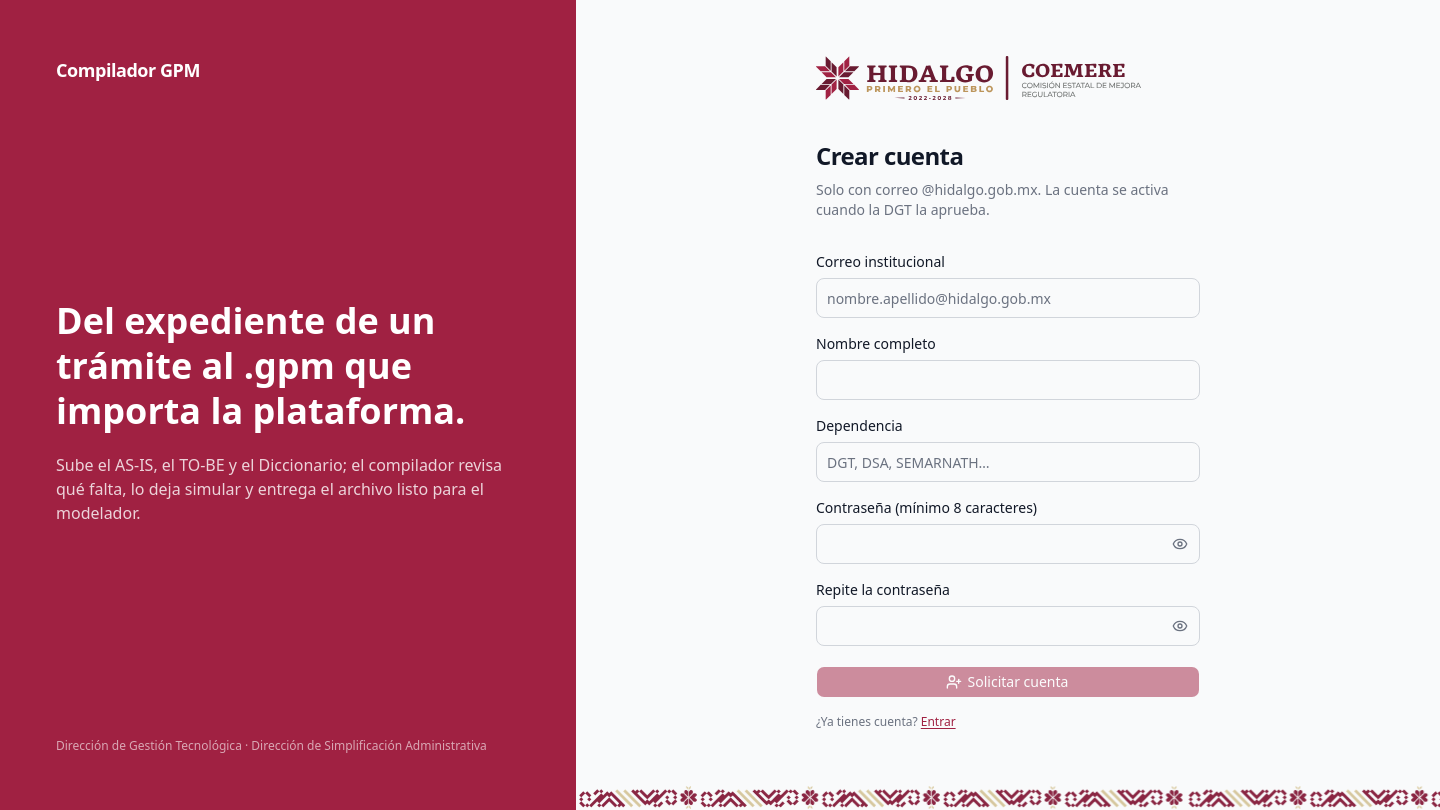
Test case: registra y explica que la cuenta queda pendiente de la DGT
The image size is (1440, 810).
In the field labelled "Correo institucional": (1008, 298) x1=816 y1=278 x2=1200 y2=318, type "Luis.Vera@hidalgo.gob.mx"
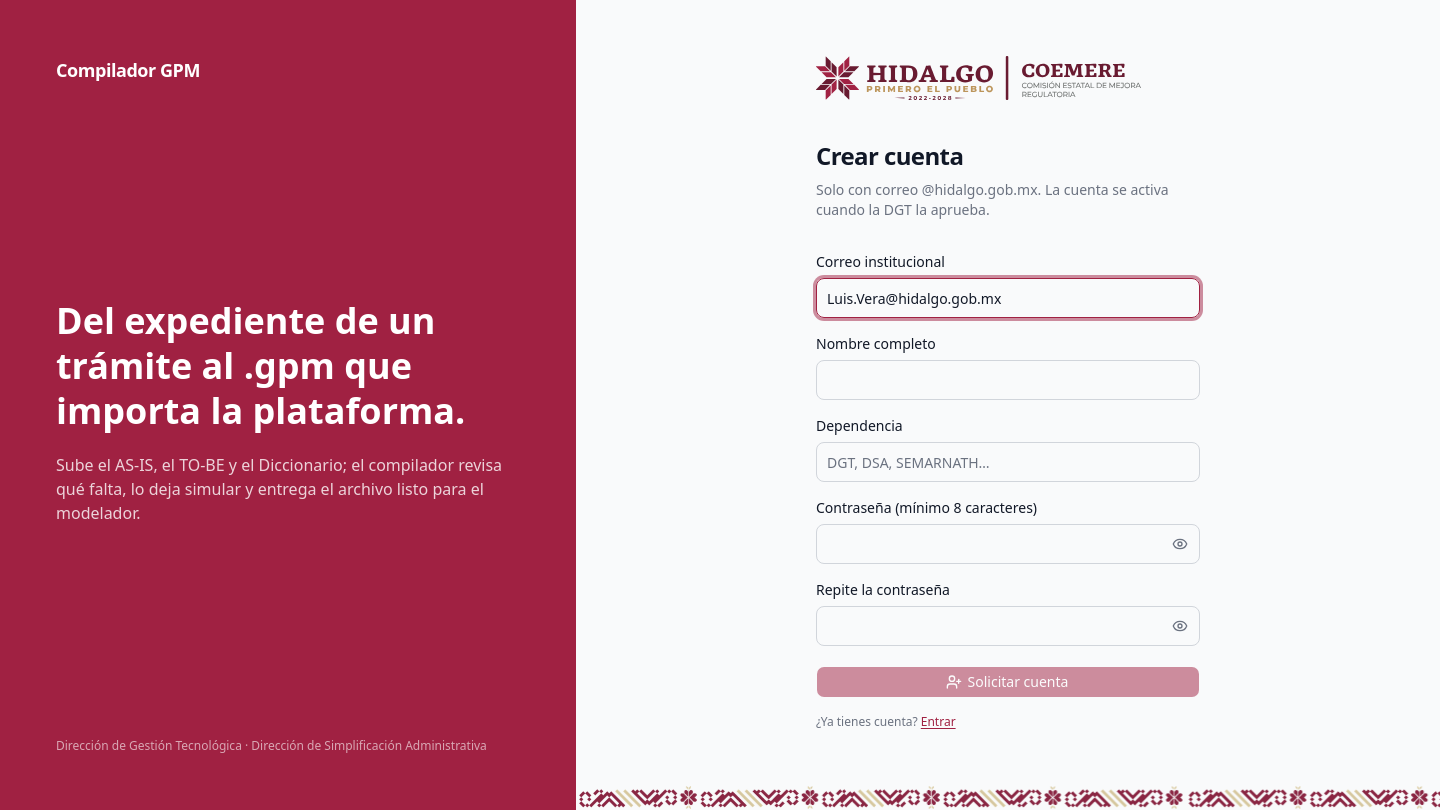
In the field labelled "Nombre completo": (1008, 380) x1=816 y1=360 x2=1200 y2=400, type "Luis Vera"
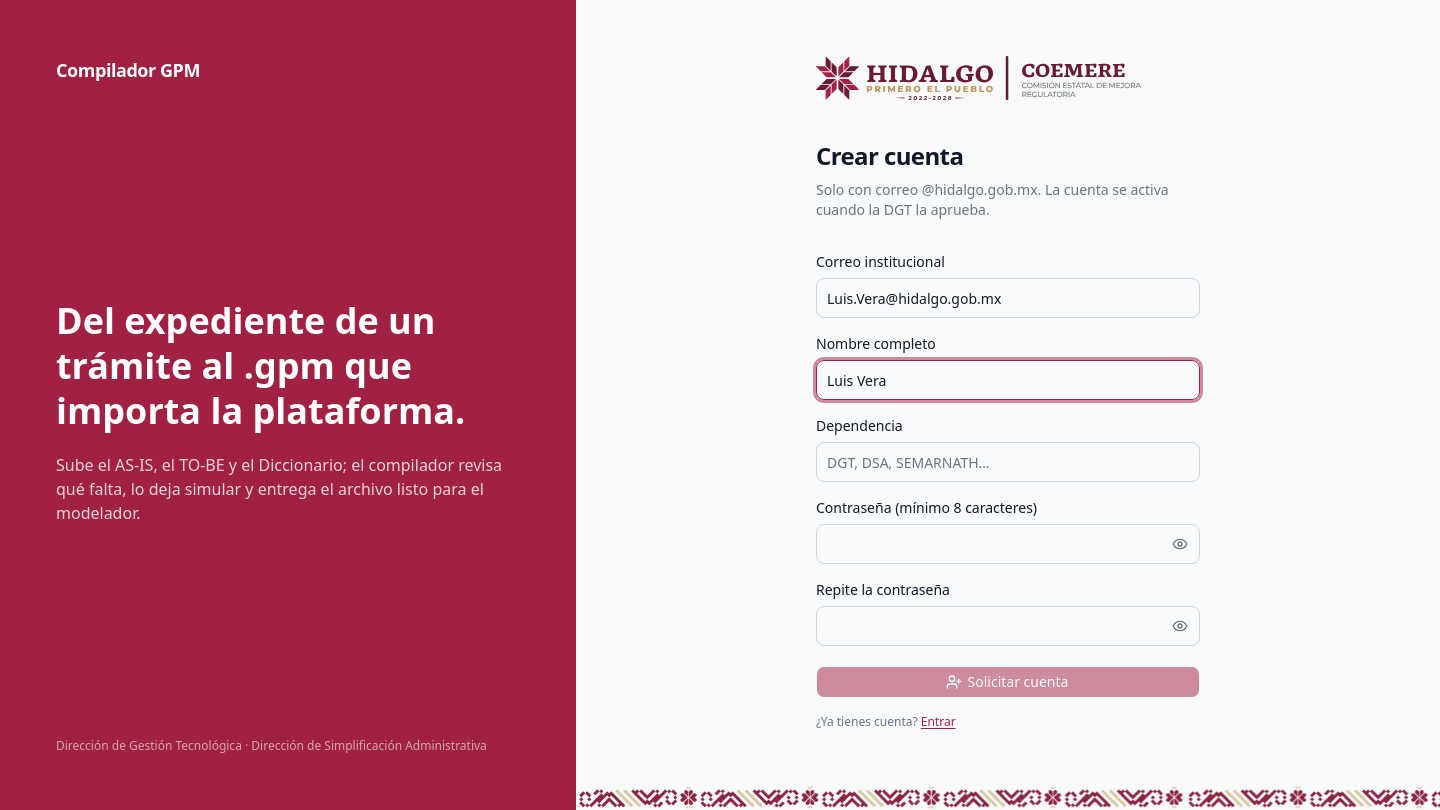
In the field labelled "Dependencia": (1008, 462) x1=816 y1=442 x2=1200 y2=482, type "DSA"
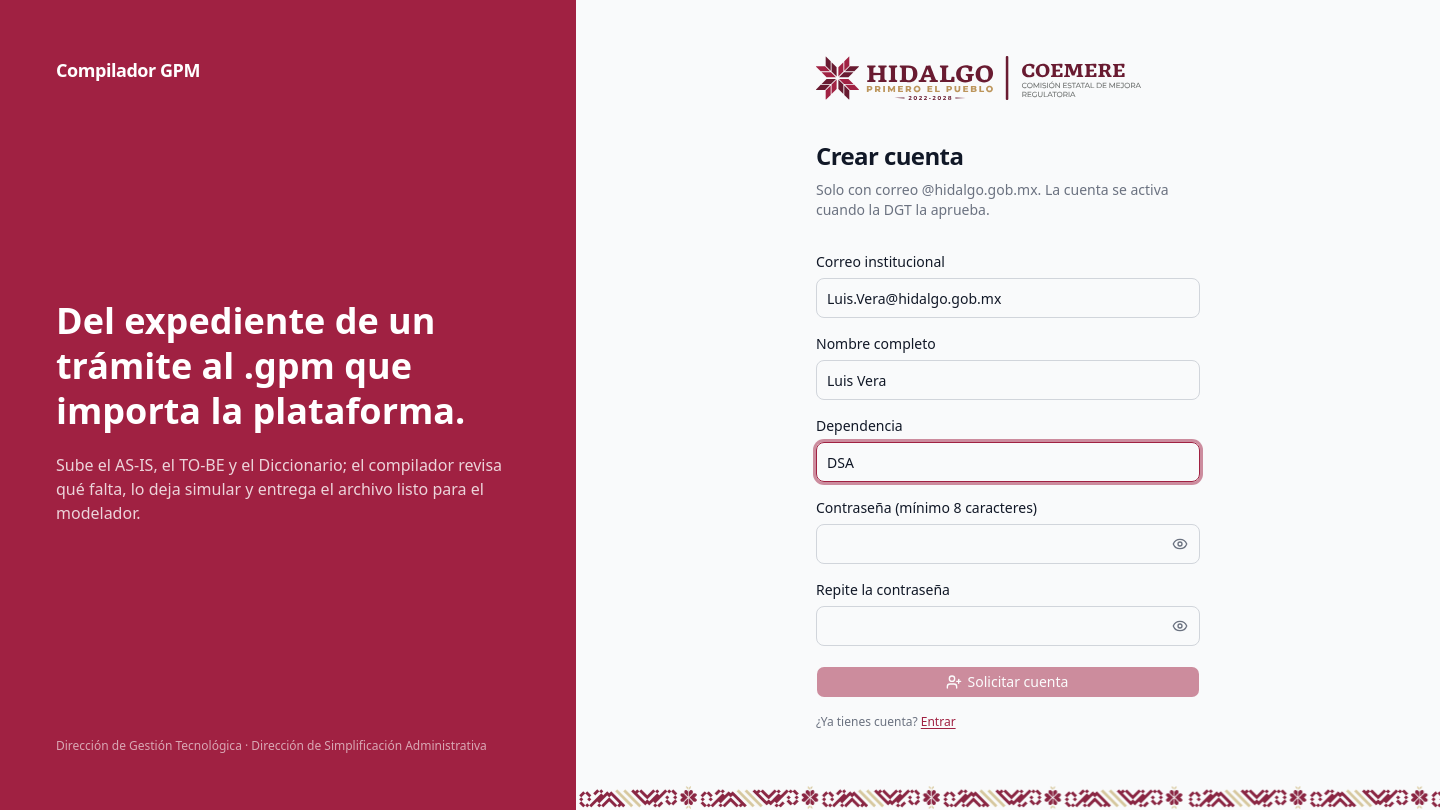
In the password field labelled "Contraseña (mínimo 8 caracteres)": (1008, 544) x1=816 y1=524 x2=1200 y2=564, type "Secreta-123"
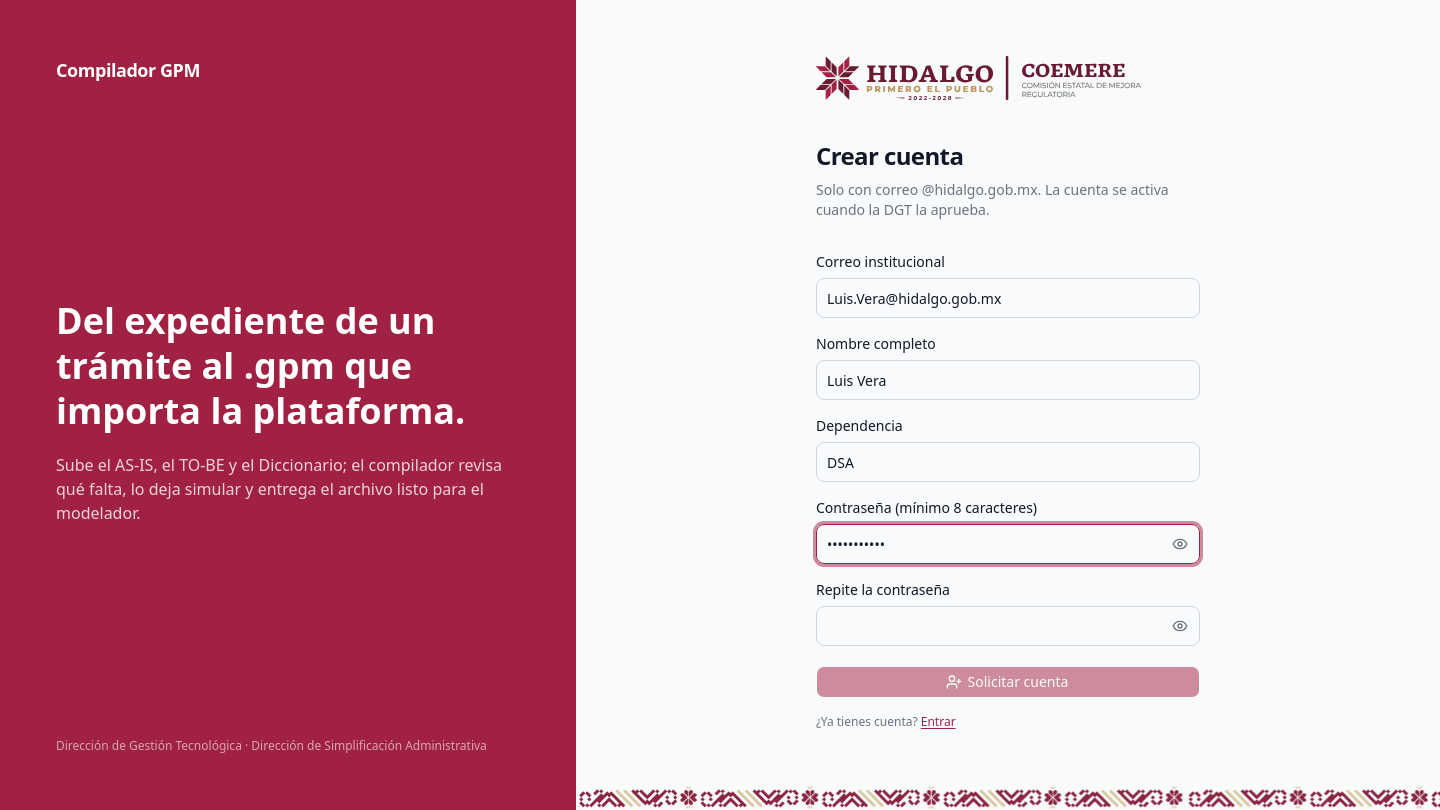
In the password field labelled "Repite la contraseña": (1008, 626) x1=816 y1=606 x2=1200 y2=646, type "Secreta-123"
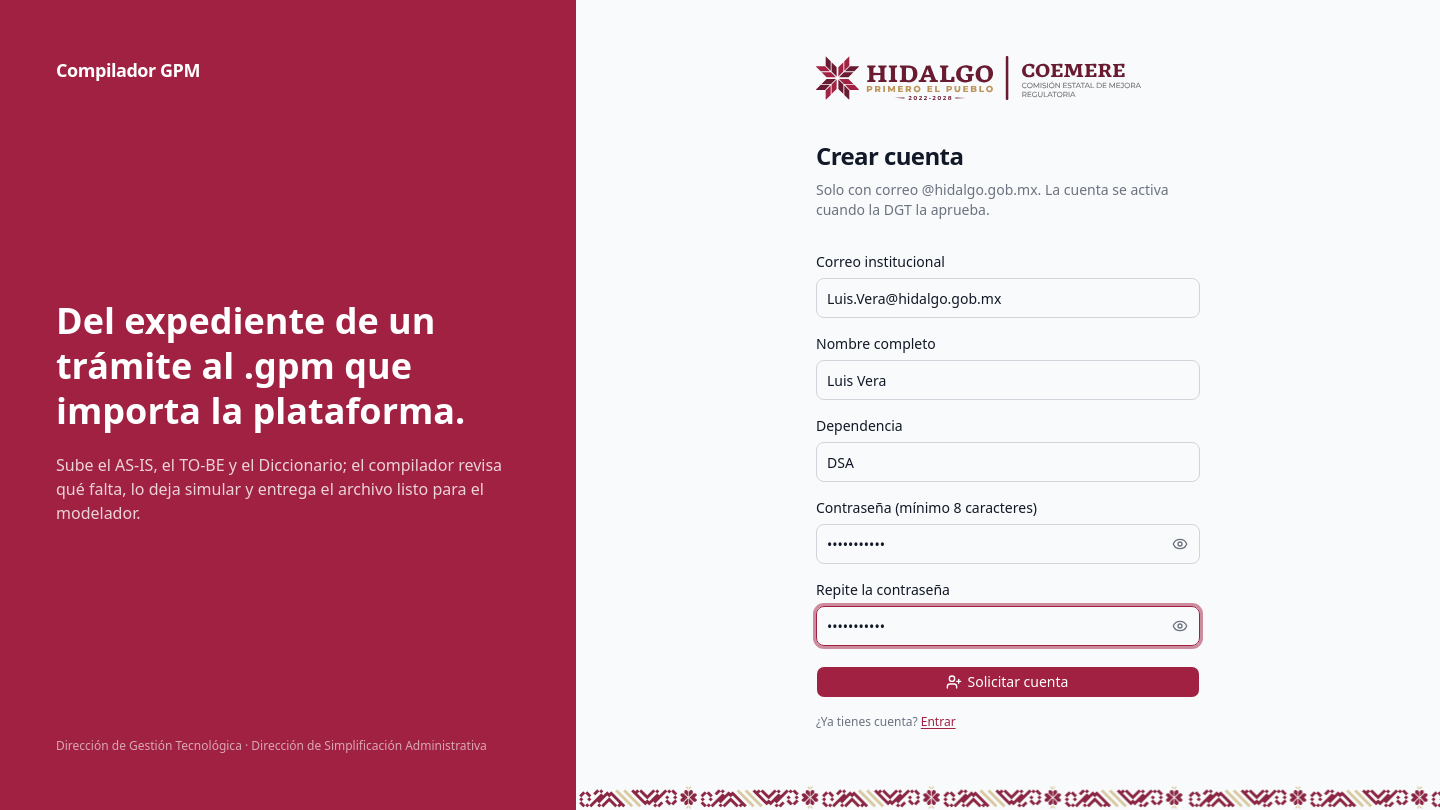
Click the button "Solicitar cuenta": (1008, 682) x1=816 y1=666 x2=1200 y2=698
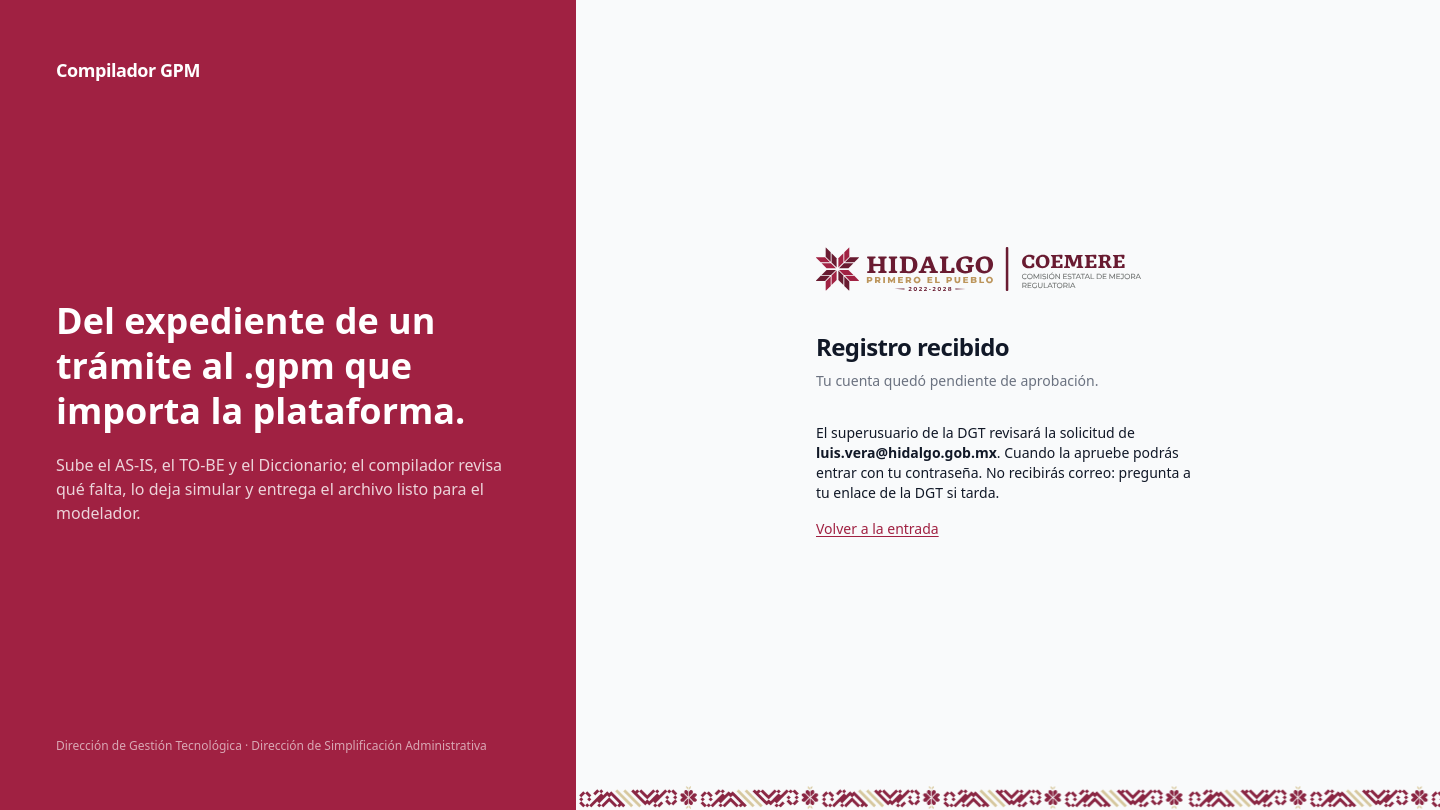
Expected: the message shows "luis.vera@hidalgo.gob.mx", x1=816 y1=443 x2=997 y2=462
